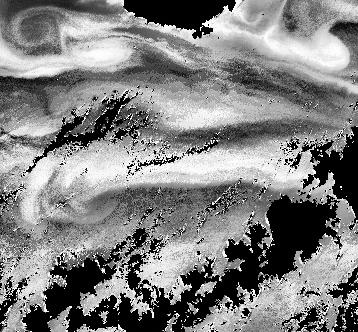CE: (12, 6, 62, 51)
